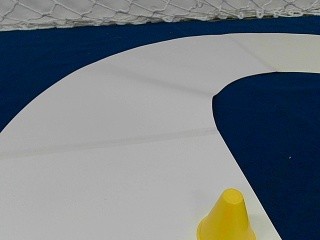cone: (196, 189, 253, 238)
